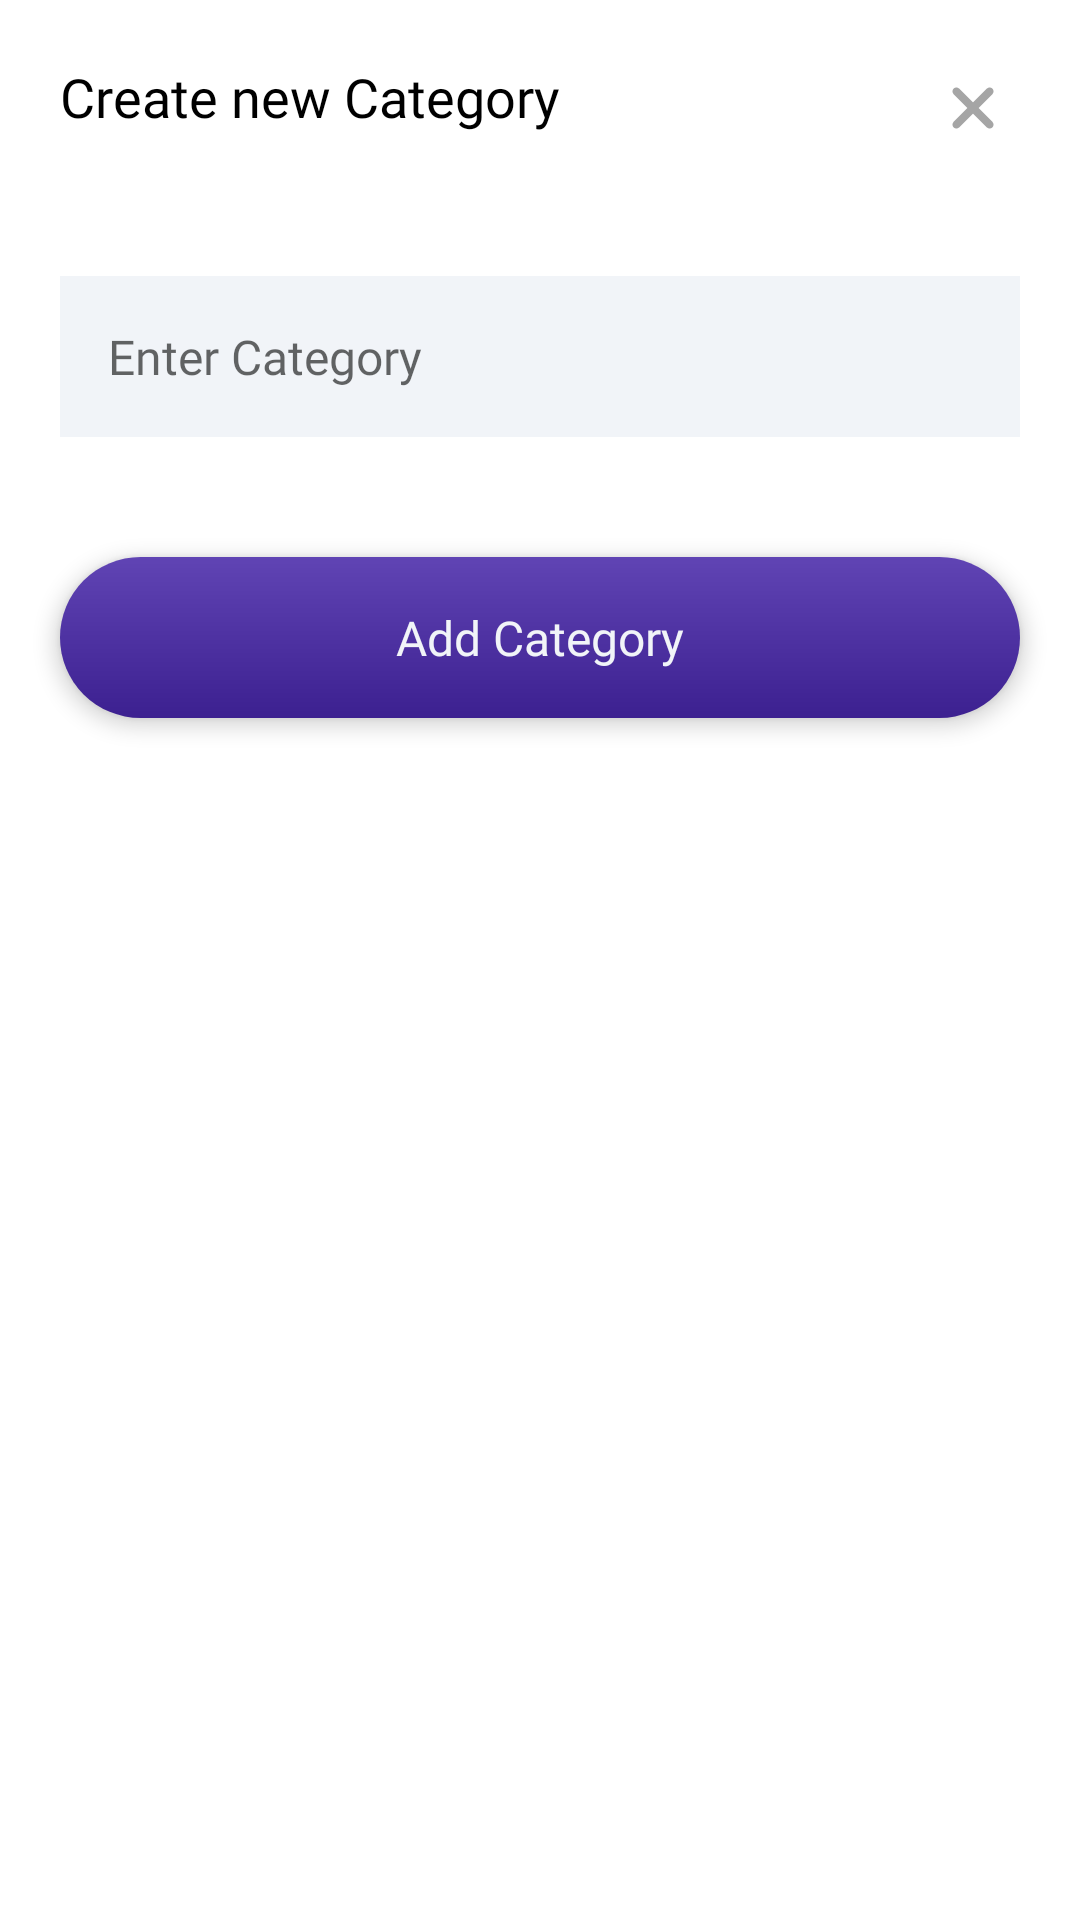

Icons on this 1080w x 1920h Android screen, each with the point to tap as [x,y]:
cross: [973,108]
